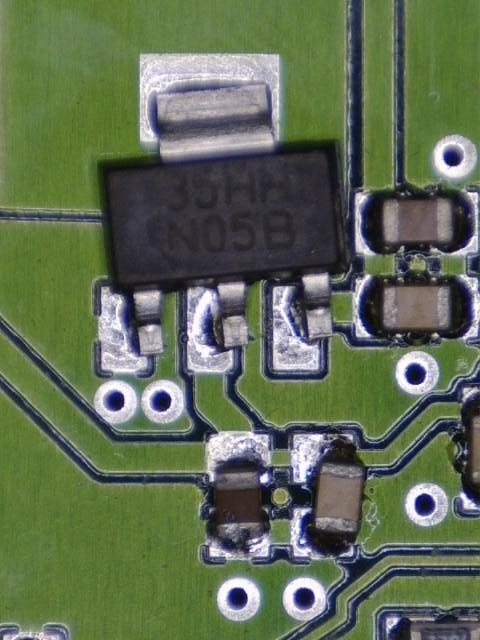pcb_defect: (100, 52, 347, 373), (292, 433, 364, 556)
